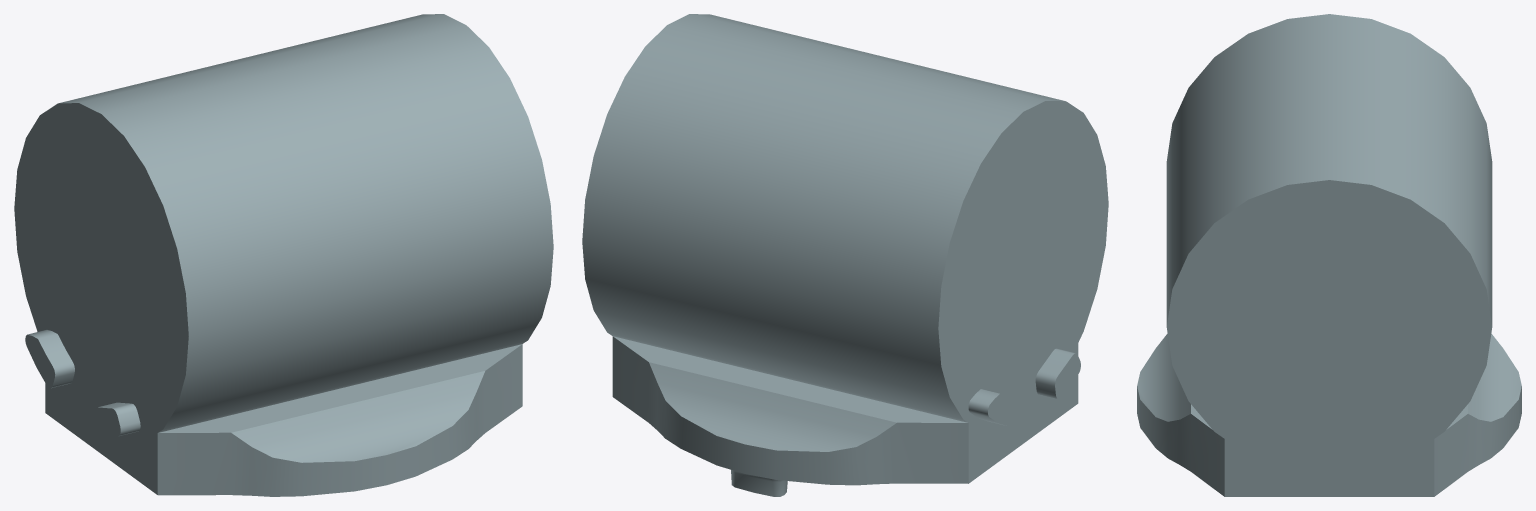
3 views of the same model, side by side, from view 1: azimuth 30°, elevation 25°; view 2: azimuth 150°, elevation 25°; view 3: azimuth 270°, elevation 25° (orthographic). The views are drawn at different scales.
Visible parts, largest first — view 1: RootNode; view 2: RootNode; view 3: RootNode.
Part boxes in pixels (x1,y1,x2,y2): RootNode: (14, 14, 553, 496); RootNode: (582, 14, 1108, 496); RootNode: (1137, 14, 1521, 496).
Size of the model in its own units: 0.0775 by 0.072 by 0.0735.
